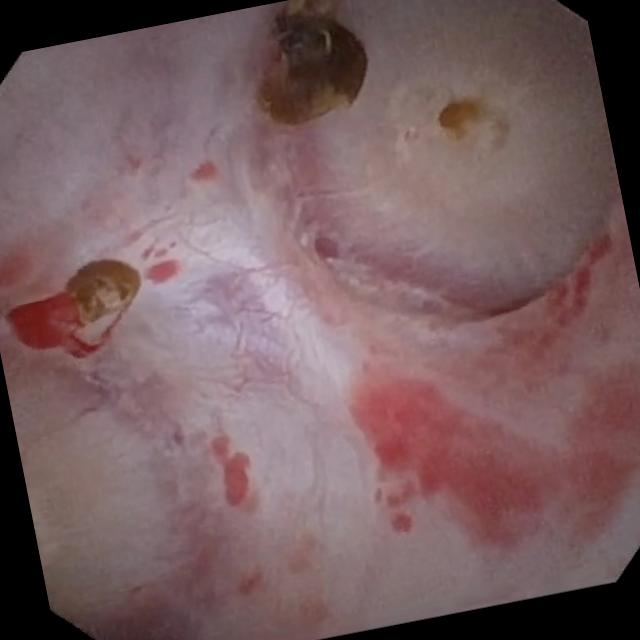stone-new: (257, 0, 366, 126), (66, 260, 138, 326)
